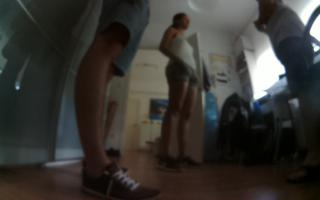person: (72, 1, 165, 200), (248, 1, 320, 188), (154, 10, 210, 175)
